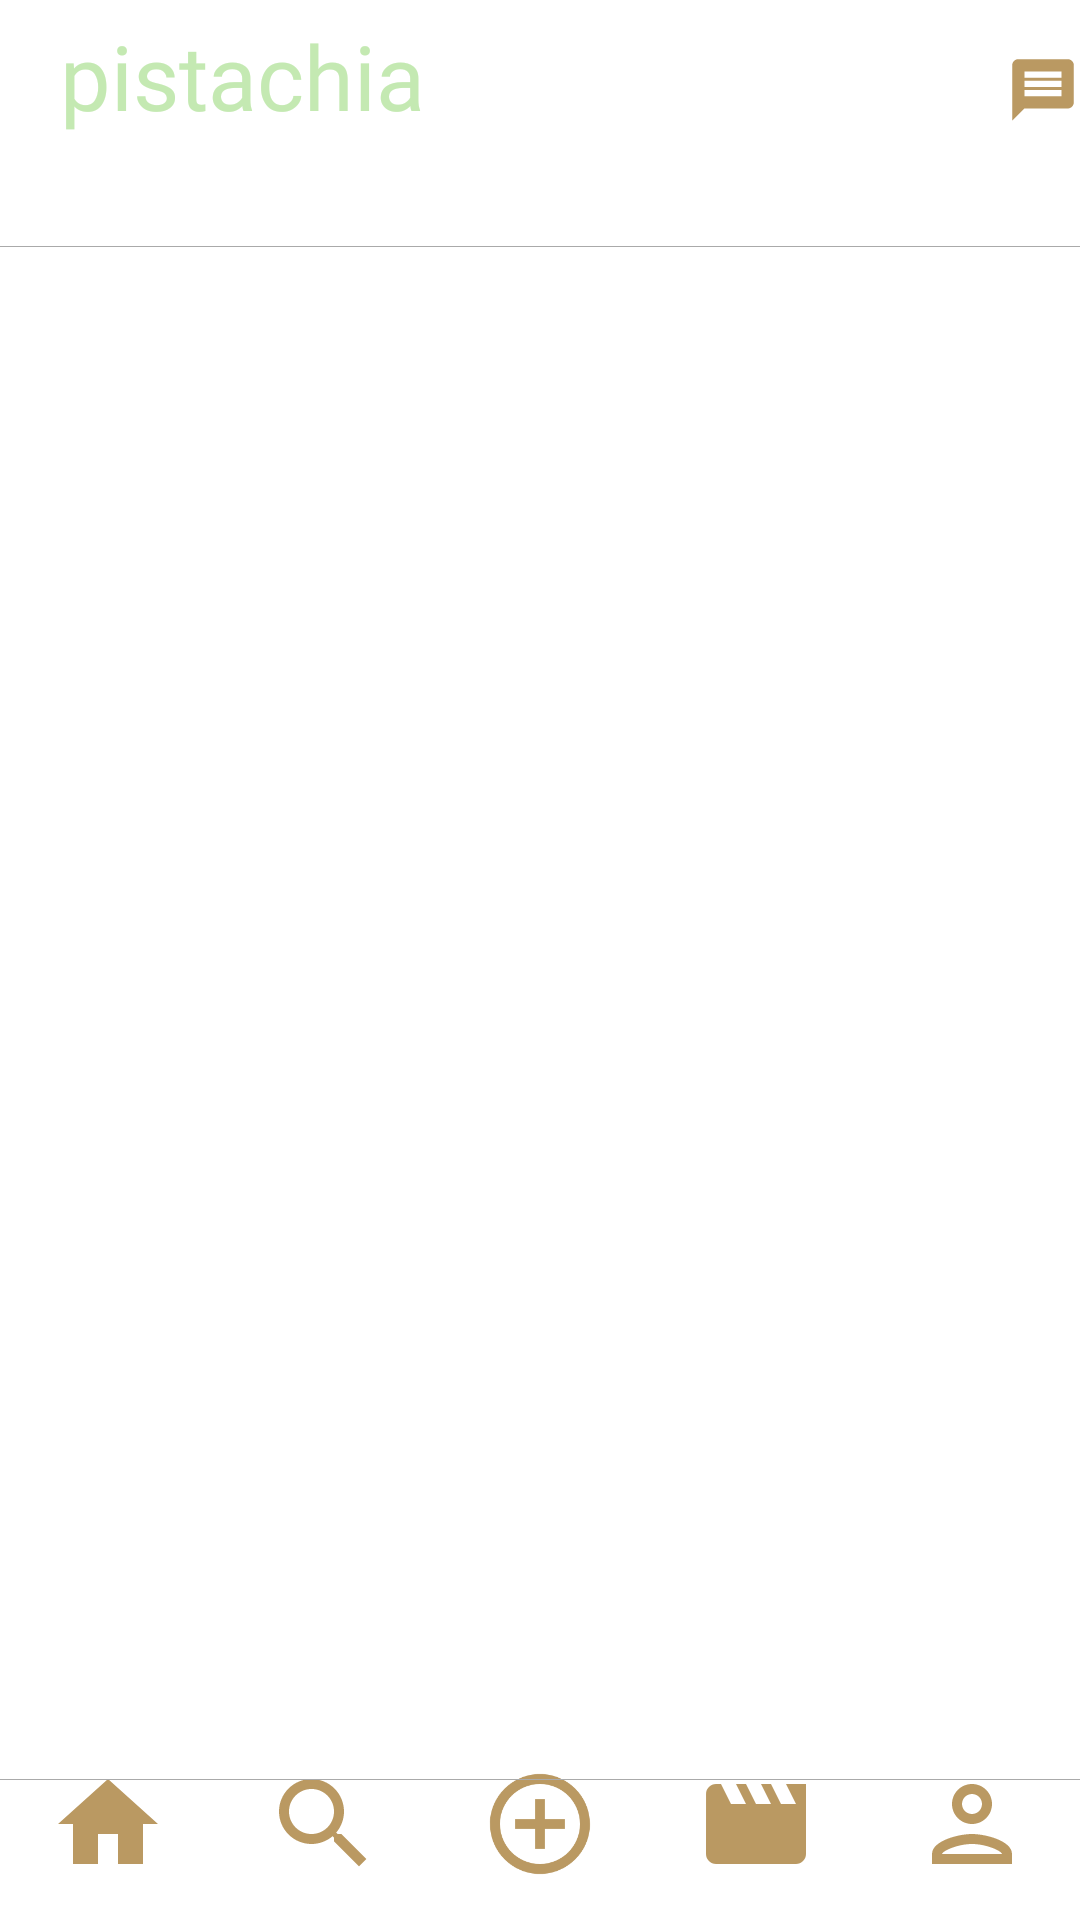

Icons on this 1080×1920 Android screen, each with its box as [left=x1, top=y1, right=x2, bottom=y2]:
home: [left=0, top=1779, right=216, bottom=1864]
home add: [left=432, top=1774, right=648, bottom=1874]
home message: [left=1012, top=59, right=1074, bottom=121]
home profile: [left=932, top=1784, right=1012, bottom=1864]
home reel: [left=706, top=1784, right=806, bottom=1864]
home search: [left=216, top=1779, right=432, bottom=1866]
